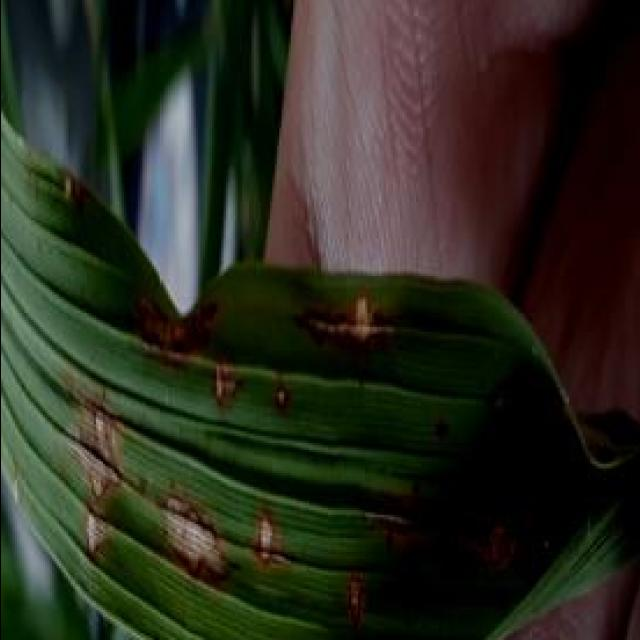Leaf_Blast: (58, 366, 137, 511), (151, 498, 246, 598), (346, 478, 460, 559), (304, 288, 429, 360), (112, 292, 230, 368), (462, 482, 548, 578), (313, 545, 383, 640), (58, 500, 137, 578), (248, 501, 302, 603), (250, 358, 306, 433), (202, 338, 252, 411), (60, 160, 104, 225)
